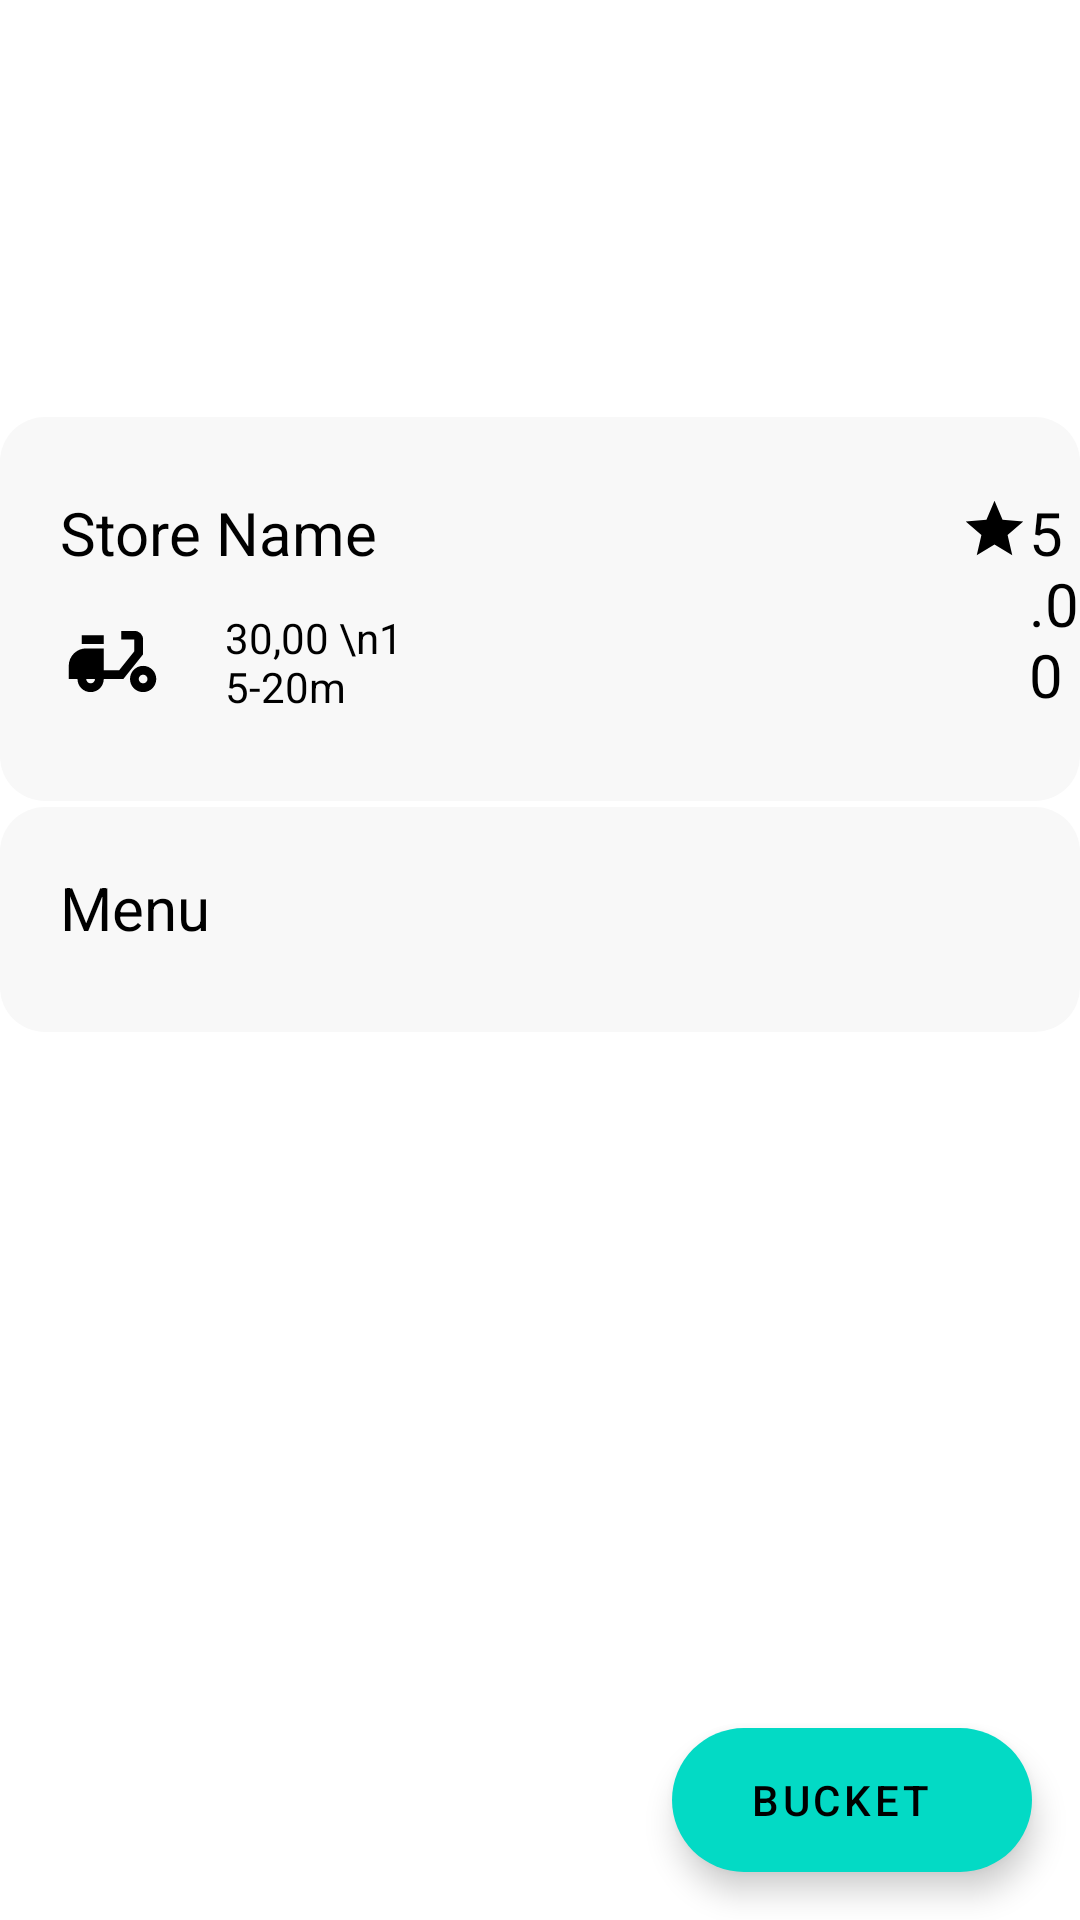

Named icons in this screenshot (1080w x 1920h) and their bounding boxes, {"x1": x1, "y1": y1, "x2": x2, "y2": y2}:
delivery dining: {"x1": 68, "y1": 631, "x2": 157, "y2": 692}
symbols star: {"x1": 966, "y1": 501, "x2": 1023, "y2": 555}
